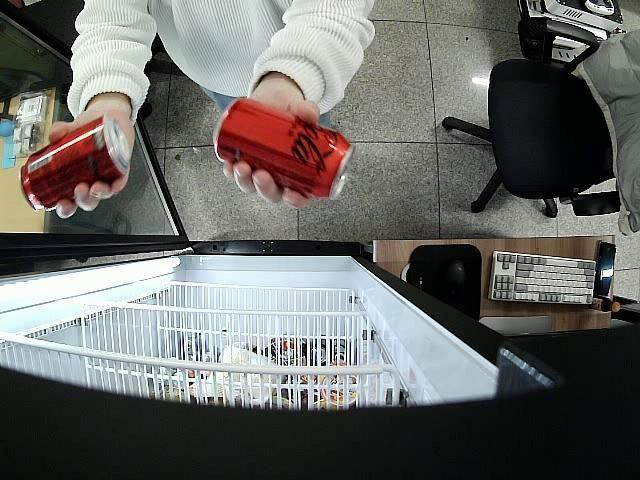11_cocaColaZero: (212, 96, 356, 201), (22, 116, 129, 213)
